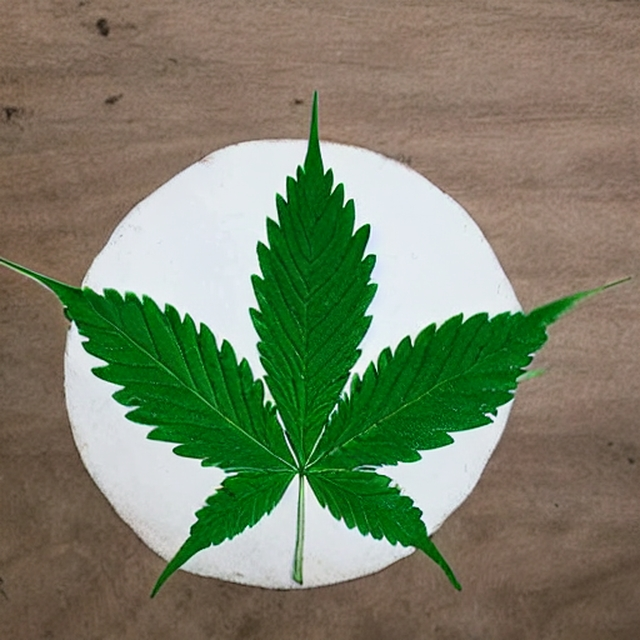Marijuana Leaf: (0, 88, 632, 597)
